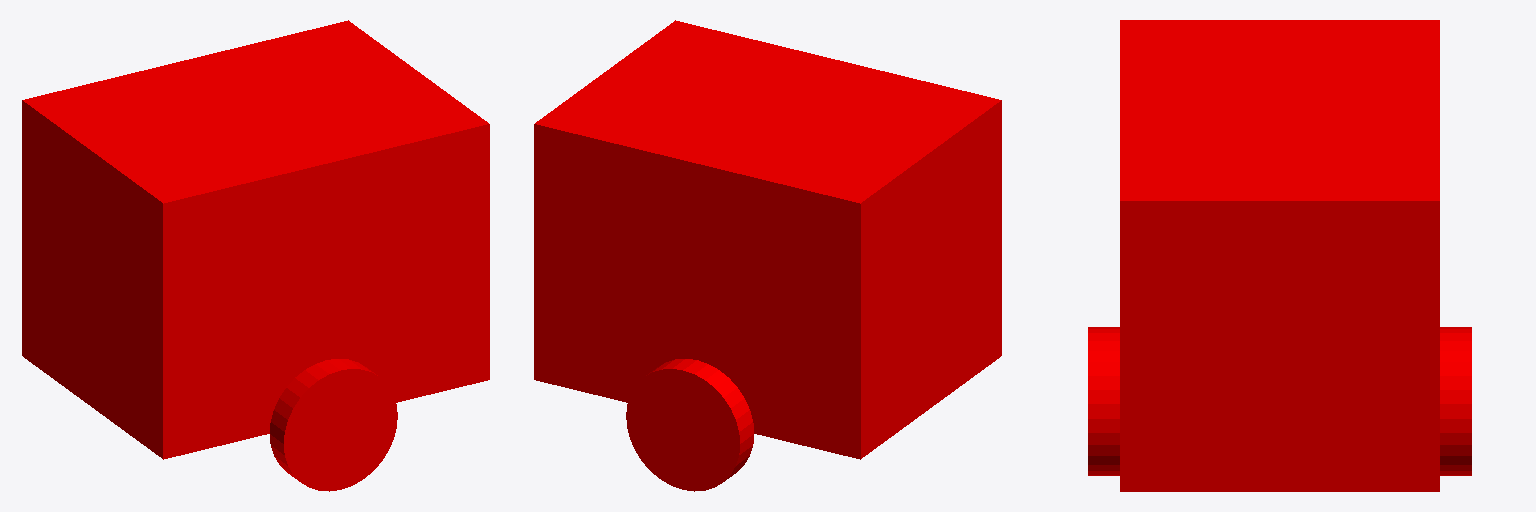
The robot description file, URDF, robot "box_bot":
<?xml version="1.0" ?>
<!-- =================================================================================== -->
<!-- |    This document was autogenerated by xacro from my_robot_urdf.xacro            | -->
<!-- |    EDITING THIS FILE BY HAND IS NOT RECOMMENDED                                 | -->
<!-- =================================================================================== -->
<robot name="box_bot">
  <!-- Добавления материалов и скриптов -->
  <!-- This file is not a robot in and of itself, it just contains some useful tags that could be included in any robot -->
  <!-- This file is not a robot in and of itself, it just contains some useful tags that could be included in any robot -->
  <!-- This file is not a robot in and of itself, it just contains some useful tags that could be included in any robot -->
  <!-- Specify some colours -->
  <material name="primary">
    <color rgba="1 0.3 0.1 1"/>
  </material>
  <material name="secondary">
    <color rgba="0.7 0.15 0.01 1"/>
  </material>
  <material name="base">
    <color rgba="0.1 0.1 0.1 1"/>
  </material>
  <link name="base_link"/>
  <link name="chassi">
    <inertial>
      <origin xyz="0.0 0.0 0.15"/>
      <mass value="0.1"/>
      <inertia ixx="0.0015" ixy="0.0" ixz="0.0" iyy="0.0020833333333333333" iyz="0.0" izz="0.0020833333333333333"/>
    </inertial>
    <visual name="">
      <origin rpy="0.0 0.0 0.0" xyz="0.0 0.0 0.15"/>
      <geometry>
        <box size="0.4 0.3 0.3"/>
      </geometry>
      <material name="">
        <color rgba="1.0 0.0 0.0 1.0"/>
        <texture filename=""/>
      </material>
    </visual>
    <collision>
      <origin rpy="0.0 0.0 0.0" xyz="0.0 0.0 0.15"/>
      <geometry>
        <box size="0.4 0.3 0.3"/>
      </geometry>
    </collision>
  </link>
  <gazebo reference="chassi">
    <sensor name="depth_camera" type="depth_camera">
      <update_rate>10</update_rate>
      <topic>depth_camera</topic>
      <camera>
        <horizontal_fov>1.05</horizontal_fov>
        <image>
          <width>256</width>
          <height>256</height>
          <format>R_FLOAT32</format>
        </image>
        <clip>
          <near>0.1</near>
          <far>10.0</far>
        </clip>
      </camera>
    </sensor>
  </gazebo>
  <joint name="fixed_join" type="fixed">
    <origin rpy="0.0 0.0 0.0" xyz="0.0 0.0 0.0"/>
    <parent link="base_link"/>
    <child link="chassi"/>
  </joint>
  <link name="wheel_left">
    <inertial>
      <origin xyz="0.0 0.015 0.0"/>
      <mass value="0.1"/>
      <inertia ixx="0.00013000000000000002" ixy="0.0" ixz="0.0" iyy="0.00013000000000000002" iyz="0.0" izz="0.00024500000000000005"/>
    </inertial>
    <visual name="">
      <origin rpy="1.5707963267948966 0.0 0.0" xyz="0.0 0.015 0.0"/>
      <geometry>
        <cylinder length="0.03" radius="0.07"/>
      </geometry>
      <material name="">
        <color rgba="1.0 0.0 0.0 1.0"/>
        <texture filename=""/>
      </material>
    </visual>
    <collision>
      <origin rpy="1.5707963267948966 0.0 0.0" xyz="0.0 0.015 0.0"/>
      <geometry>
        <cylinder length="0.03" radius="0.07"/>
      </geometry>
    </collision>
  </link>
  <joint name="join_wheel_left" type="continuous">
    <origin xyz="0.0 0.15 0.0"/>
    <parent link="chassi"/>
    <child link="wheel_left"/>
    <axis xyz="0.0 -1 0.0"/>
  </joint>
  <gazebo>
    <plugin filename="ignition-gazebo-sensors-system" name="gz::sim::systems::Sensors">
      <render_engine>ogre2</render_engine>
    </plugin>
  </gazebo>
  <link name="wheel_right">
    <inertial>
      <origin xyz="0.0 0.015 0.0"/>
      <mass value="0.1"/>
      <inertia ixx="0.00013000000000000002" ixy="0.0" ixz="0.0" iyy="0.00013000000000000002" iyz="0.0" izz="0.00024500000000000005"/>
    </inertial>
    <visual name="">
      <origin rpy="1.5707963267948966 0.0 0.0" xyz="0.0 0.015 0.0"/>
      <geometry>
        <cylinder length="0.03" radius="0.07"/>
      </geometry>
      <material name="">
        <color rgba="1.0 0.0 0.0 1.0"/>
        <texture filename=""/>
      </material>
    </visual>
    <collision>
      <origin rpy="1.5707963267948966 0.0 0.0" xyz="0.0 0.015 0.0"/>
      <geometry>
        <cylinder length="0.03" radius="0.07"/>
      </geometry>
    </collision>
  </link>
  <joint name="join_wheel_right" type="continuous">
    <origin xyz="0.0 -0.18 0.0"/>
    <parent link="chassi"/>
    <child link="wheel_right"/>
    <axis xyz="0.0 -1 0.0"/>
  </joint>
  <gazebo>
    <plugin filename="gz-sim-diff-drive-system" name="gz::sim::systems::DiffDrive">
      <!-- Wheel information -->
      <left_joint>join_wheel_left</left_joint>
      <right_joint>join_wheel_right</right_joint>
      <wheel_separation>0.3</wheel_separation>
      <wheel_radius>0.07</wheel_radius>
      <!-- Limits -->
      <max_linear_acceleration>10</max_linear_acceleration>
      <!-- Output -->
      <odom_topic>odom</odom_topic>
      <!-- OLD from <odometry_topic> -->
      <frame_id>odom</frame_id>
      <!-- OLD from <odometry_frame> -->
      <child_frame_id>base_link</child_frame_id>
      <!-- OLD from <robot_base_frame> -->
      <odom_publisher_frequency>30</odom_publisher_frequency>
      <!-- OLD from <update_rate>-->
      <!-- Short topic name for tf output -->
      <tf_topic>/tf</tf_topic>
      <topic>cmd_vel</topic>
    </plugin>
    <plugin filename="gz-sim-joint-state-publisher-system" name="gz::sim::systems::JointStatePublisher">
      <topic>joint_states</topic>
      <!--from <ros><remapping> -->
      <joint_name>join_wheel_left</joint_name>
      <joint_name>join_wheel_right</joint_name>
    </plugin>
  </gazebo>
</robot>

--- What the picture shows (computed from the rendered views, not written in the file) ---
3 views of the same robot in one strip: view 1: azimuth 30°, elevation 25°; view 2: azimuth 150°, elevation 25°; view 3: azimuth 270°, elevation 25° (orthographic).
Model box_bot with 4 links and 3 joints (2 continuous, 1 fixed), rooted at base_link, posed all joints at 0.
Links seen in each view (by area): view 1: chassi, wheel_right; view 2: chassi, wheel_left; view 3: chassi, wheel_left, wheel_right.
Link boxes in pixels (x1,y1,x2,y2): chassi: (22,20,489,459); wheel_right: (270,359,397,491); chassi: (534,20,1001,459); wheel_left: (626,359,753,491); chassi: (1120,20,1439,491); wheel_left: (1440,327,1471,475); wheel_right: (1088,327,1119,475).
Size in the robot's own frame: 0.4 by 0.36 by 0.37 metres.
Geometry: primitives only (box / cylinder / sphere), no mesh files.